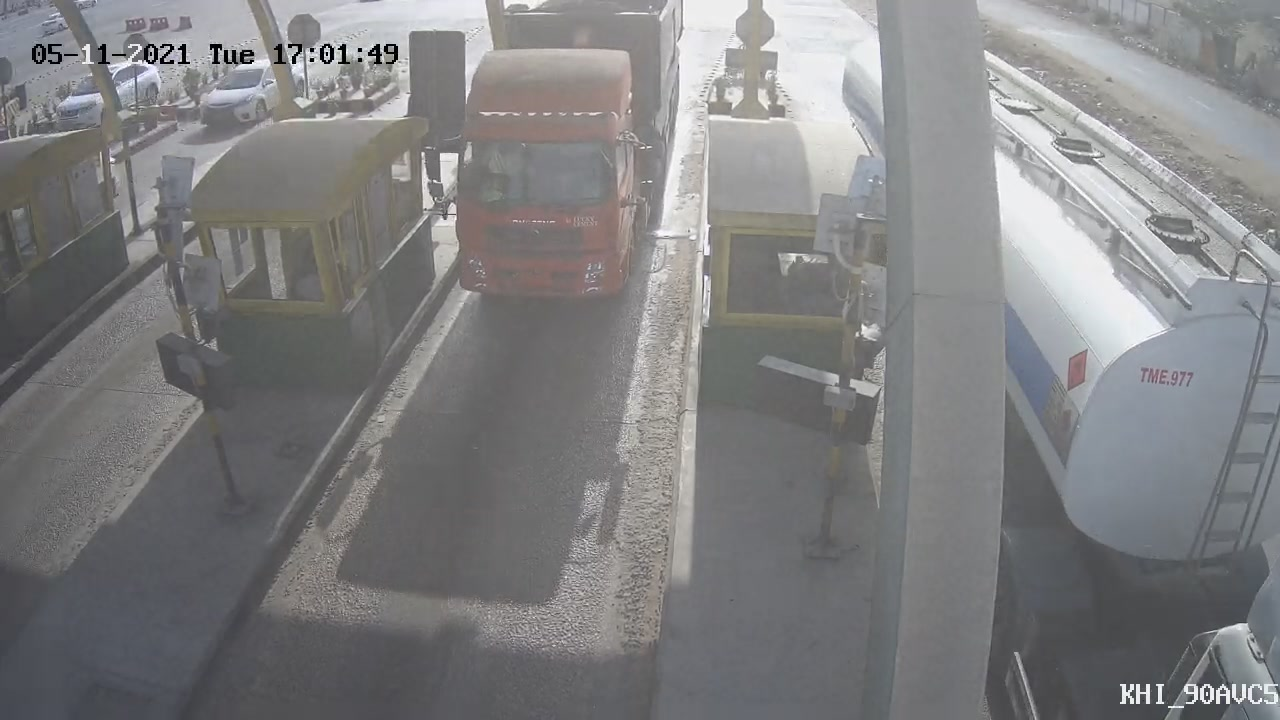F6: (401, 1, 699, 326)
